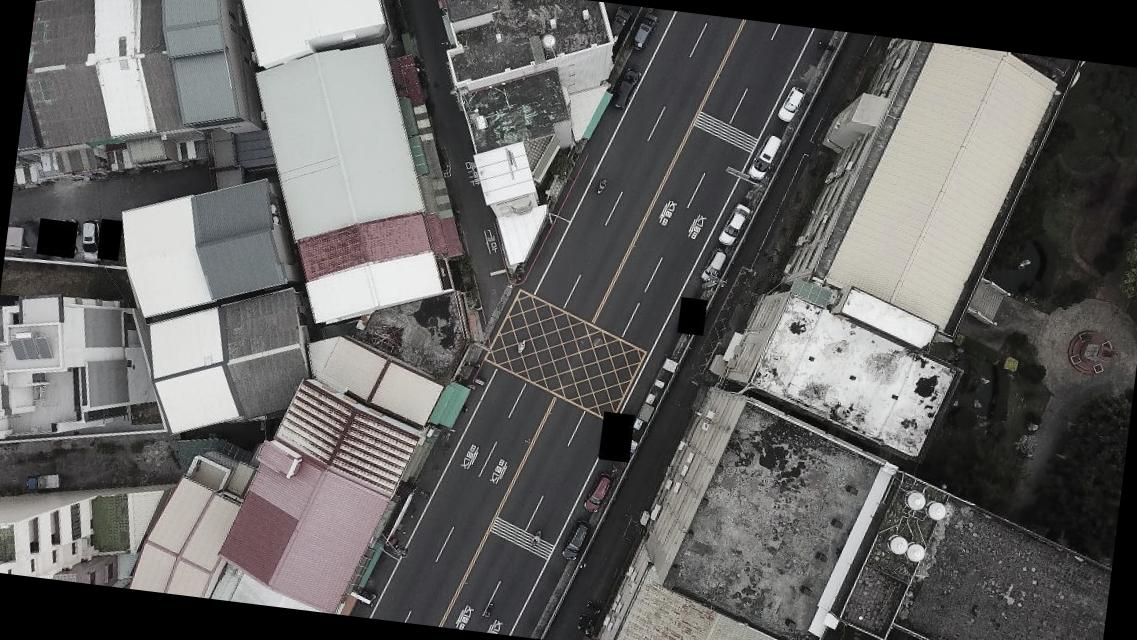vehicle: (746, 131, 782, 184), (716, 202, 752, 249), (611, 64, 642, 112), (560, 517, 592, 563), (582, 471, 612, 515), (76, 216, 104, 262), (776, 83, 806, 125), (700, 246, 728, 287), (631, 11, 658, 52)
